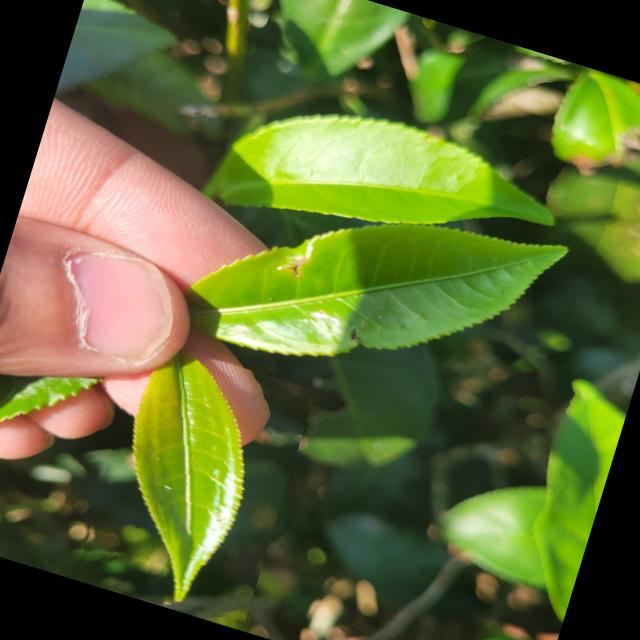Catagory A(1-2 days): (67, 337, 316, 630)
